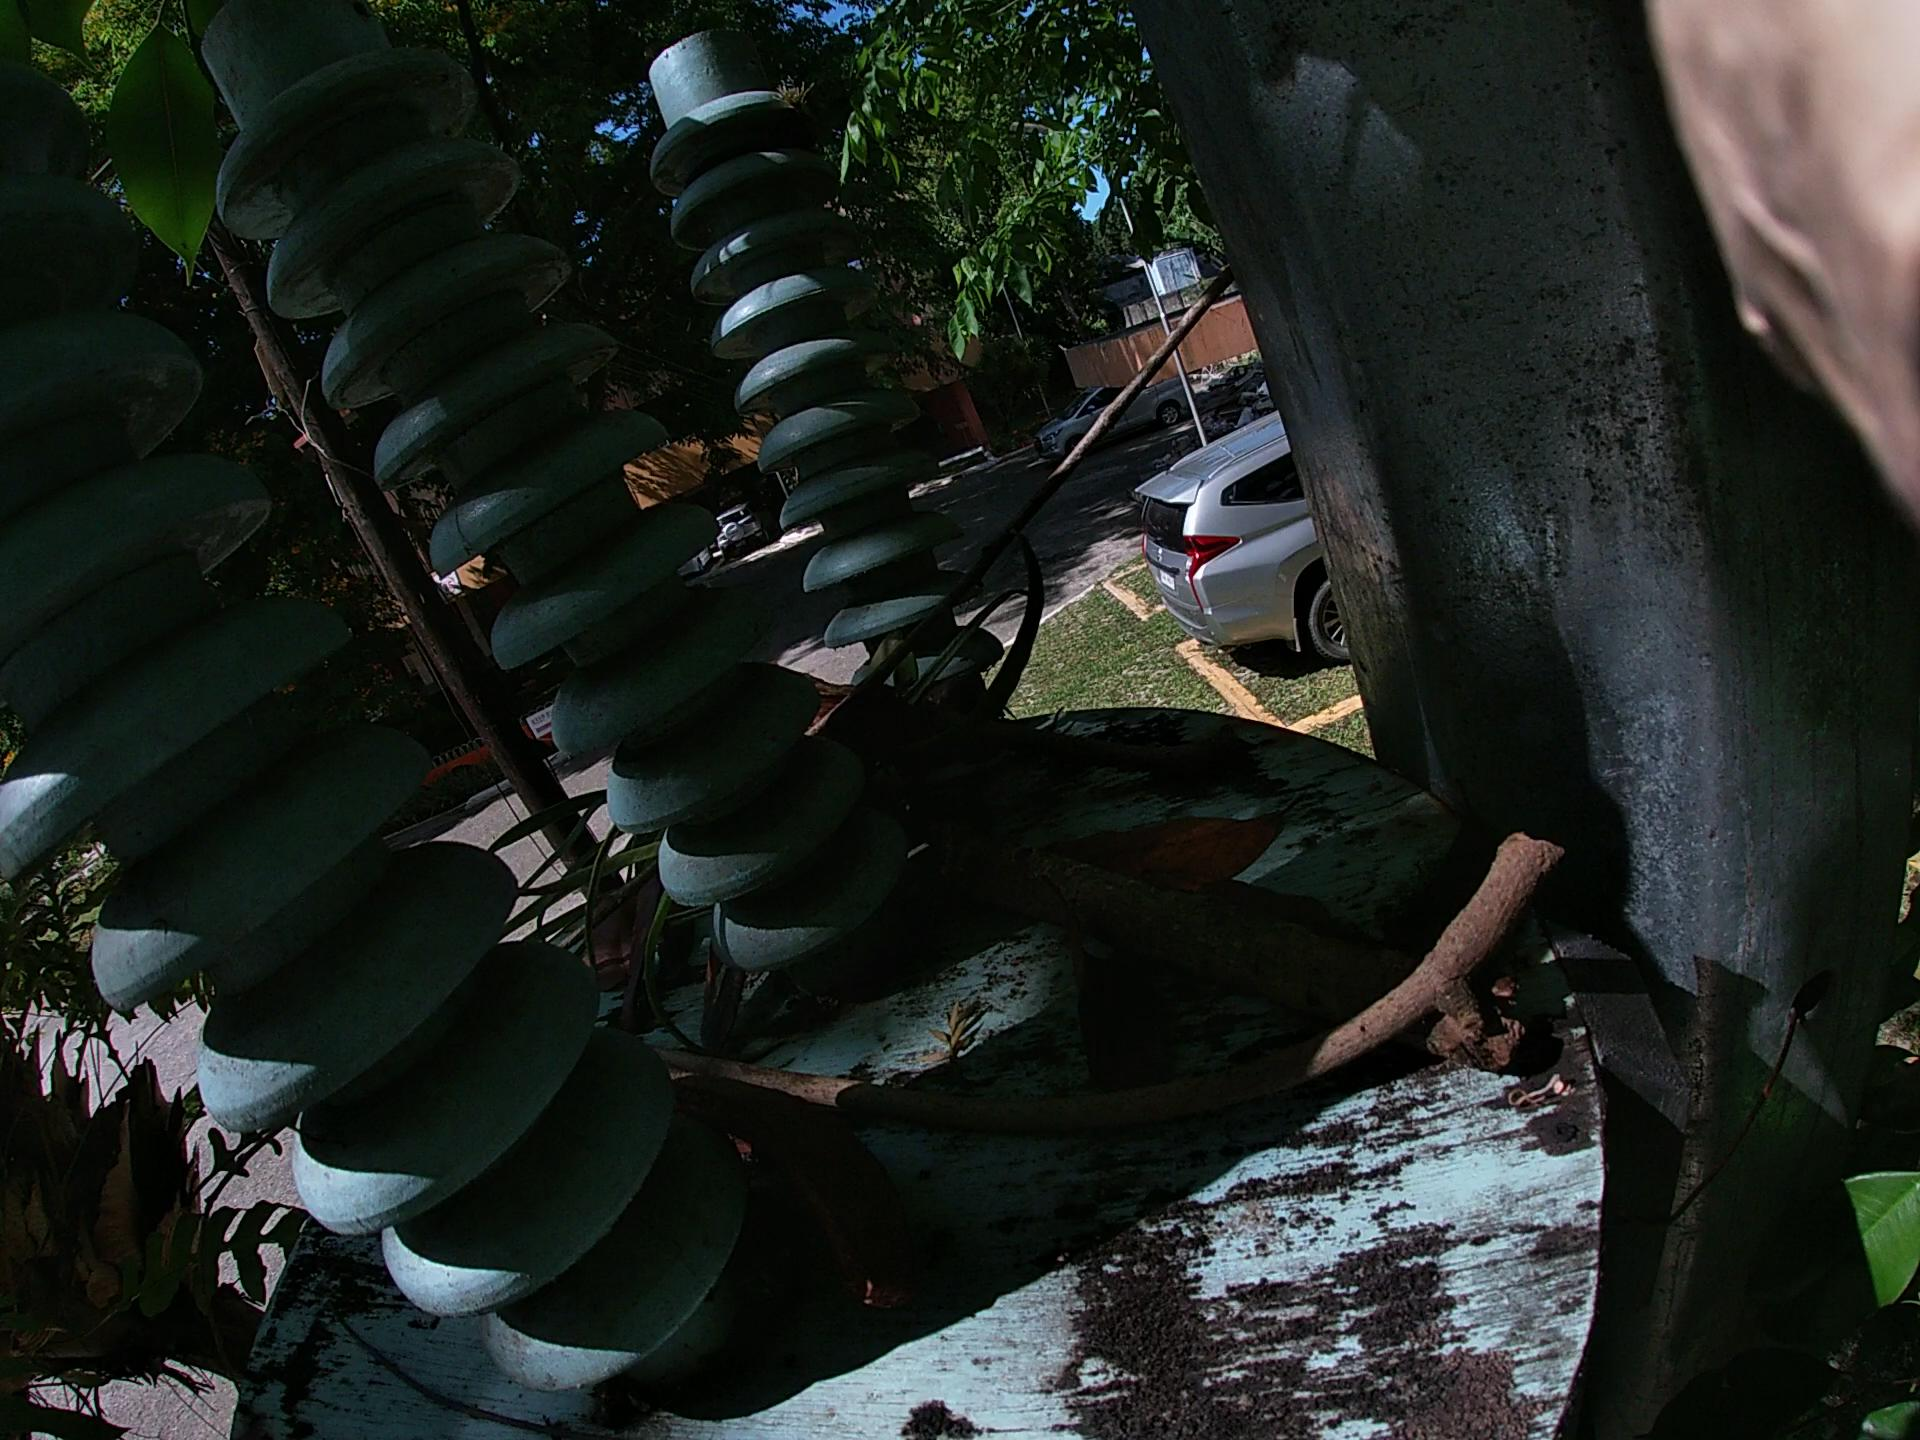branch with leaves: (437, 644, 1414, 1195)
leaf: (1002, 726, 1349, 1195)
mahogany fruit: (659, 1029, 934, 1321), (680, 610, 977, 835)
tree branch: (541, 280, 1172, 1041), (544, 1062, 1504, 1162), (290, 1246, 582, 1440)
